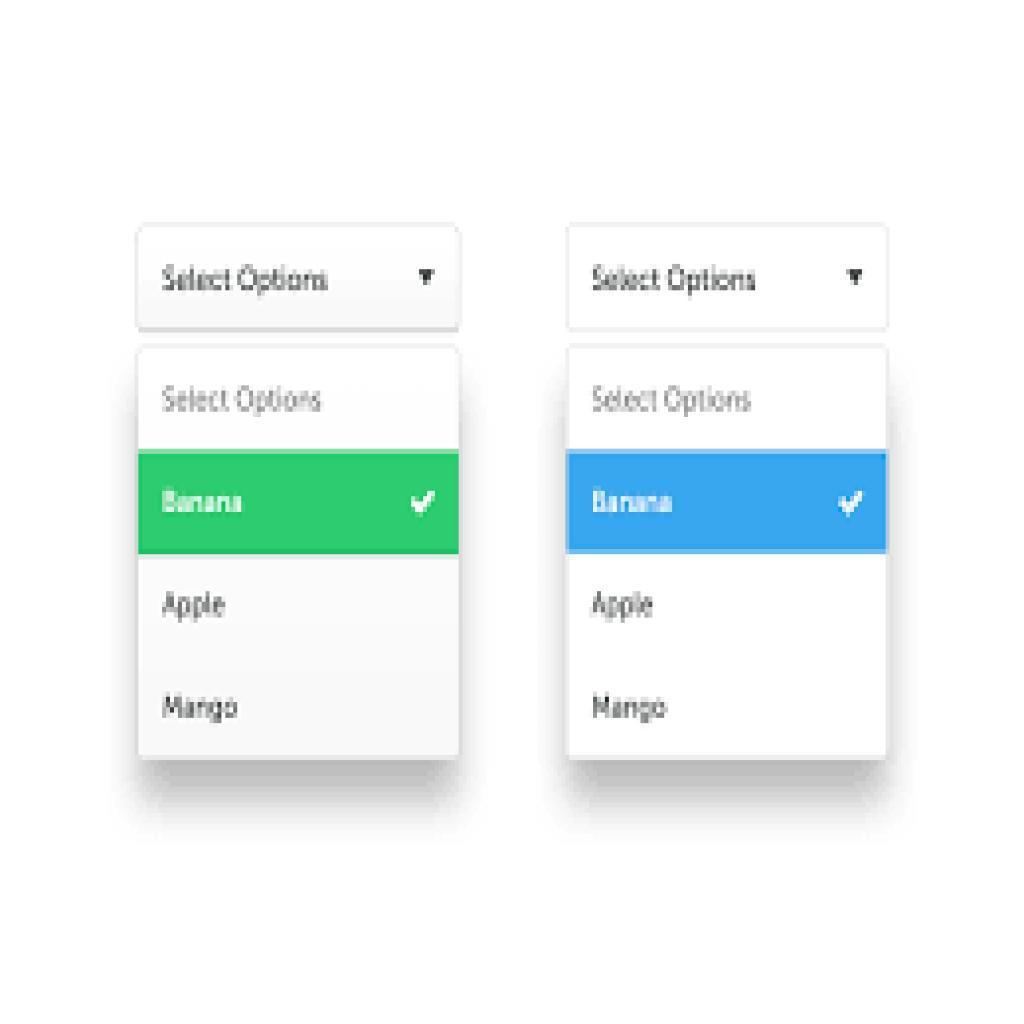dropdown: (136, 226, 463, 333), (564, 226, 886, 331)
